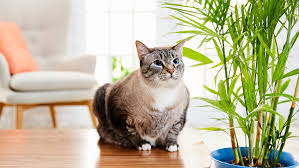bamboo: (185, 3, 299, 159)
